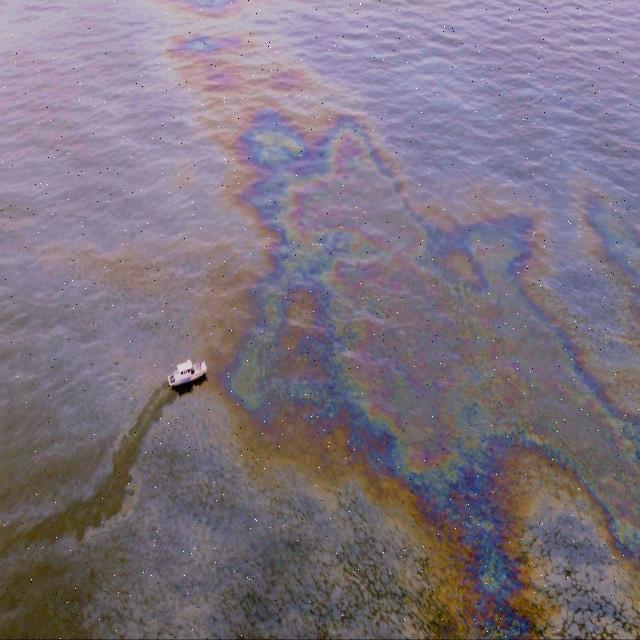oil: (234, 98, 592, 490)
